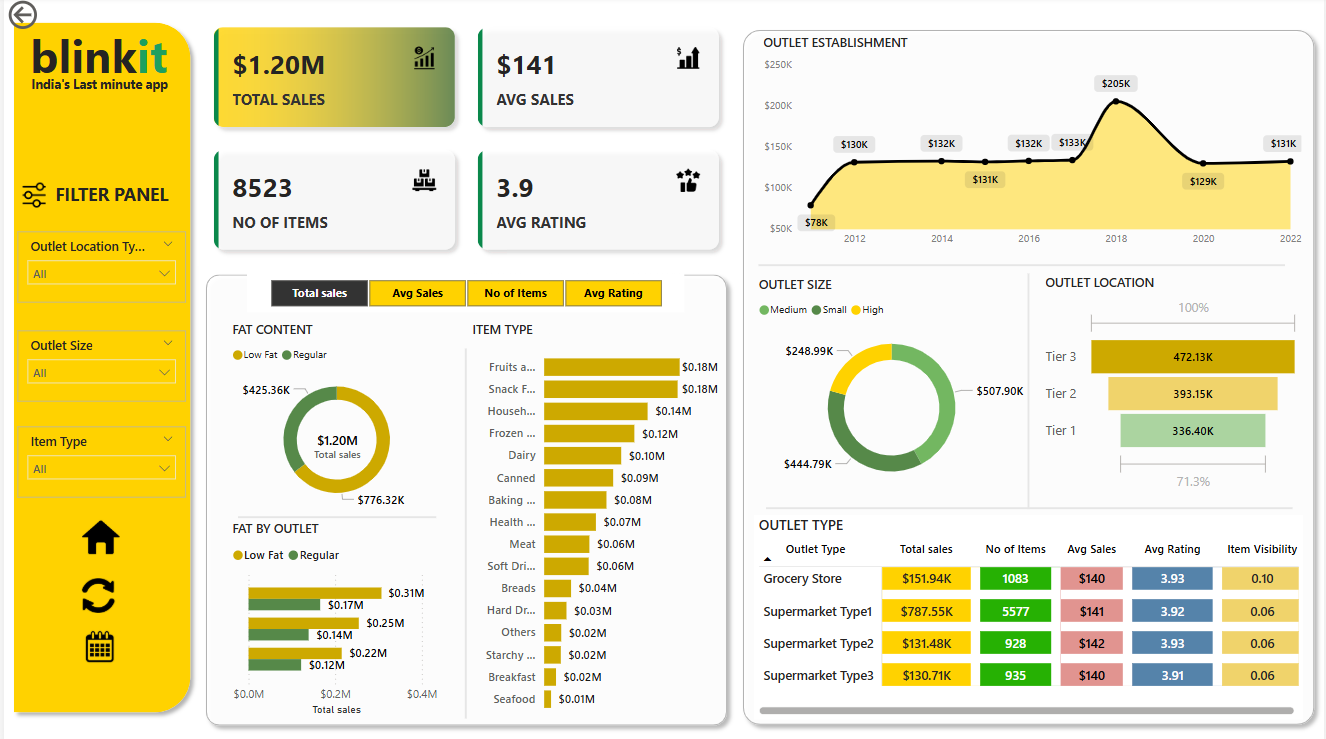

What the dashboard file says about the page in this screenshot:
{"tool":"powerbi","page":{"name":"Page 1","canvas":[1400,800],"ordinal":0},"visuals":[{"type":"shape","box":[1.7,19,205.2,750],"z":0},{"type":"textbox","box":[2,24,198,100],"z":1000},{"type":"textbox","box":[24,60,156,64],"z":2000},{"type":"cardVisual","fields":{"Data":["BlinkIT Grocery Data.Total sales","BlinkIT Grocery Data.Avg Sales","BlinkIT Grocery Data.No of Items","BlinkIT Grocery Data.Avg Rating"]},"box":[205.2,15.5,570.7,270.7],"z":3000},{"type":"shape","box":[205.2,286.2,570.7,496.6],"z":4000},{"type":"donutChart","title":"FAT CONTENT","fields":{"Y":["BlinkIT Grocery Data.Total sales"],"Category":["BlinkIT Grocery Data.Item Fat Content"]},"box":[237.9,343.1,231,208.6],"z":5000},{"type":"slicer","fields":{"Values":["Metrics.Metrics"]},"box":[258.6,294.8,463.8,41.4],"z":6000},{"type":"cardVisual","fields":{"Data":["BlinkIT Grocery Data.Total sales"]},"box":[306.9,444.8,93.1,67.2],"z":7000},{"type":"clusteredBarChart","title":"FAT BY OUTLET","fields":{"Y":["BlinkIT Grocery Data.Total sales"],"Category":["BlinkIT Grocery Data.Outlet Location Type"],"Series":["BlinkIT Grocery Data.Item Fat Content"]},"box":[237.9,555.2,231,212.1],"z":8000},{"type":"shape","box":[248.3,532.8,210.3,39.7],"z":9000},{"type":"shape","box":[398.2,373.7,184.2,393],"z":10000},{"type":"barChart","title":"ITEM TYPE","fields":{"Y":["BlinkIT Grocery Data.Total sales"],"Category":["BlinkIT Grocery Data.Item Type"]},"box":[491.4,343.1,270.7,425.9],"z":11000},{"type":"shape","box":[775.9,27.6,624.1,755.2],"z":12000},{"type":"lineChart","title":"OUTLET ESTABLISHMENT","fields":{"Y":["BlinkIT Grocery Data.Total sales"],"Category":["BlinkIT Grocery Data.Outlet Establishment Year"]},"box":[800,39.7,581,234.5],"z":13000},{"type":"shape","box":[800,265.5,558.6,39.7],"z":14000},{"type":"donutChart","title":"OUTLET SIZE","fields":{"Y":["BlinkIT Grocery Data.Total sales"],"Category":["BlinkIT Grocery Data.Outlet Size"]},"box":[796.6,296.6,291.4,236.2],"z":15000},{"type":"shape","box":[994.8,294.8,184.5,250],"z":16000},{"type":"funnel","title":"OUTLET LOCATION","fields":{"Y":["Sum(BlinkIT Grocery Data.Sales)"],"Category":["BlinkIT Grocery Data.Outlet Location Type"]},"box":[1100,294.8,279.3,236.2],"z":17000},{"type":"shape","box":[808.6,524.1,558.6,39.7],"z":18000},{"type":"pivotTable","title":"OUTLET TYPE","fields":{"Rows":["BlinkIT Grocery Data.Outlet Type"],"Values":["BlinkIT Grocery Data.Total sales","BlinkIT Grocery Data.No of Items","BlinkIT Grocery Data.Avg Sales","BlinkIT Grocery Data.Avg Rating","Avg(BlinkIT Grocery Data.Item Visibility)"]},"box":[796.6,550,582.8,217.2],"z":19000},{"type":"slicer","fields":{"Values":["BlinkIT Grocery Data.Outlet Location Type"]},"box":[15,250,178.3,75],"z":20000},{"type":"actionButton","box":[0,0,100,40],"z":21000},{"type":"slicer","fields":{"Values":["BlinkIT Grocery Data.Outlet Size"]},"box":[15,355,178.3,75],"z":22000},{"type":"slicer","fields":{"Values":["BlinkIT Grocery Data.Item Type"]},"box":[15,456.7,178.3,75],"z":23000},{"type":"textbox","box":[50,193.3,175,56.7],"z":24000},{"type":"image","box":[53.3,548.3,96.7,50],"z":24001},{"type":"image","box":[15,193.3,35,36.7],"z":24002},{"type":"image","box":[76.7,611.7,46.7,50],"z":24003},{"type":"image","box":[78.3,661.7,46.7,56.7],"z":24004}]}

Visuals, with their boxes in screenshot pixels (x1, y1, x2, y2), scaled from the page's 1400x800 canvas onto the 1326x739 screenshot:
shape: [x1=2, y1=18, x2=196, y2=710]
textbox: [x1=2, y1=22, x2=189, y2=115]
textbox: [x1=23, y1=55, x2=170, y2=115]
cardVisual - BlinkIT Grocery Data.Total sales x BlinkIT Grocery Data.Avg Sales: [x1=194, y1=14, x2=735, y2=264]
shape: [x1=194, y1=264, x2=735, y2=723]
"FAT CONTENT" donutChart: [x1=225, y1=317, x2=444, y2=510]
slicer - Metrics.Metrics: [x1=245, y1=272, x2=684, y2=311]
cardVisual - BlinkIT Grocery Data.Total sales: [x1=291, y1=411, x2=379, y2=473]
"FAT BY OUTLET" clusteredBarChart: [x1=225, y1=513, x2=444, y2=709]
shape: [x1=235, y1=492, x2=434, y2=529]
shape: [x1=377, y1=345, x2=552, y2=708]
"ITEM TYPE" barChart: [x1=465, y1=317, x2=722, y2=710]
shape: [x1=735, y1=25, x2=1325, y2=723]
"OUTLET ESTABLISHMENT" lineChart: [x1=758, y1=37, x2=1308, y2=253]
shape: [x1=758, y1=245, x2=1287, y2=282]
"OUTLET SIZE" donutChart: [x1=754, y1=274, x2=1030, y2=492]
shape: [x1=942, y1=272, x2=1117, y2=503]
"OUTLET LOCATION" funnel: [x1=1042, y1=272, x2=1306, y2=491]
shape: [x1=766, y1=484, x2=1295, y2=521]
"OUTLET TYPE" pivotTable: [x1=754, y1=508, x2=1306, y2=709]
slicer - BlinkIT Grocery Data.Outlet Location Type: [x1=14, y1=231, x2=183, y2=300]
actionButton: [x1=0, y1=0, x2=95, y2=37]
slicer - BlinkIT Grocery Data.Outlet Size: [x1=14, y1=328, x2=183, y2=397]
slicer - BlinkIT Grocery Data.Item Type: [x1=14, y1=422, x2=183, y2=491]
textbox: [x1=47, y1=179, x2=213, y2=231]
image: [x1=50, y1=506, x2=142, y2=553]
image: [x1=14, y1=179, x2=47, y2=212]
image: [x1=73, y1=565, x2=117, y2=611]
image: [x1=74, y1=611, x2=118, y2=664]
